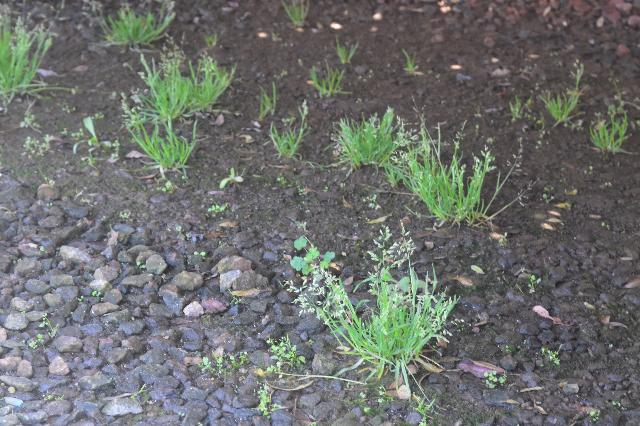MalezaMontesDelPlata: (308, 260, 467, 381), (394, 141, 517, 227), (124, 53, 245, 120), (118, 113, 213, 173), (327, 109, 405, 177), (0, 15, 54, 110), (88, 3, 179, 58), (523, 80, 587, 126), (586, 106, 635, 158), (308, 58, 349, 101), (266, 126, 308, 163), (332, 33, 364, 65), (279, 0, 314, 29)
